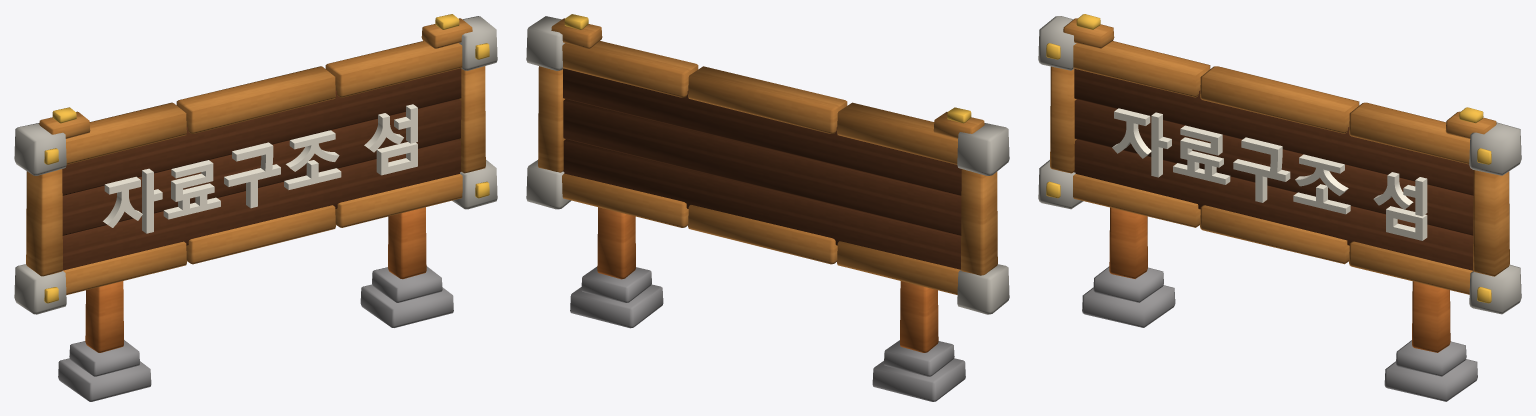
File: OBJ18_sign_ds.glb
3 views of the same model, side by side, from view 1: azimuth 30°, elevation 25°; view 2: azimuth 150°, elevation 25°; view 3: azimuth 330°, elevation 25° (orthographic).
Visible parts, largest first — view 1: Frame, Plank_0, Plank_2, Label, Plank_1, Leg_-1, Leg_1, FootLow_-1, FootLow_1, CornerCap_-1_1, CornerCap_-1_-1, FootUp_1 (+5 smaller); view 2: Frame, Plank_1, Plank_0, Plank_2, Leg_-1, Leg_1, FootLow_-1, FootLow_1, CornerCap_-1_1, CornerCap_-1_-1, FootUp_1, FootUp_-1 (+4 smaller); view 3: Frame, Plank_0, Plank_2, Label, Plank_1, Leg_1, Leg_-1, FootLow_1, FootLow_-1, CornerCap_1_1, CornerCap_1_-1, FootUp_-1 (+5 smaller).
Part boxes in pixels (x1,y1,x2,y2): Frame: (26,41,485,294); Plank_0: (62,139,461,270); Plank_2: (62,68,461,195); Label: (103,104,417,233); Plank_1: (62,99,461,235); Leg_-1: (85,281,123,352); Leg_1: (388,207,426,279); FootLow_-1: (58,358,151,401); FootLow_1: (360,284,453,327); CornerCap_-1_1: (14,123,66,175); CornerCap_-1_-1: (14,264,66,314); FootUp_1: (372,266,442,302); Frame: (538,41,997,294); Plank_1: (563,99,961,235); Plank_0: (563,139,961,269); Plank_2: (563,68,961,195); Leg_-1: (900,281,938,352); Leg_1: (597,207,635,279); FootLow_-1: (872,358,965,401); FootLow_1: (570,284,663,328); CornerCap_-1_1: (957,123,1009,175); CornerCap_-1_-1: (957,264,1009,314); FootUp_1: (581,266,651,302); FootUp_-1: (884,340,954,376); Frame: (1050,41,1509,294); Plank_0: (1074,139,1473,270); Plank_2: (1074,69,1473,195); Label: (1112,108,1427,240); Plank_1: (1074,99,1473,235); Leg_1: (1412,281,1450,352); Leg_-1: (1109,207,1147,278); FootLow_1: (1384,359,1477,401); FootLow_-1: (1082,285,1175,327); CornerCap_1_1: (1469,122,1521,175); CornerCap_1_-1: (1469,264,1521,314); FootUp_-1: (1093,266,1163,302).
Size of the model in its own units: 2.33 by 1.35 by 0.28.
Materials: 7 (3 with a texture image).
